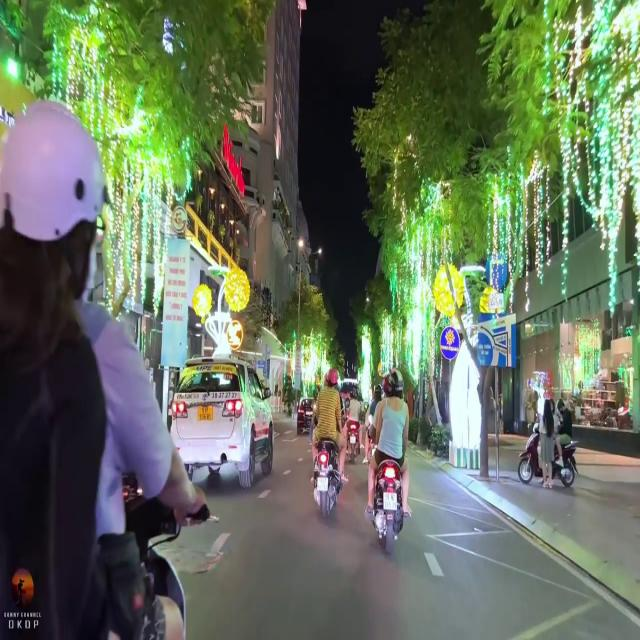bien_vang: (196, 401, 214, 422)
